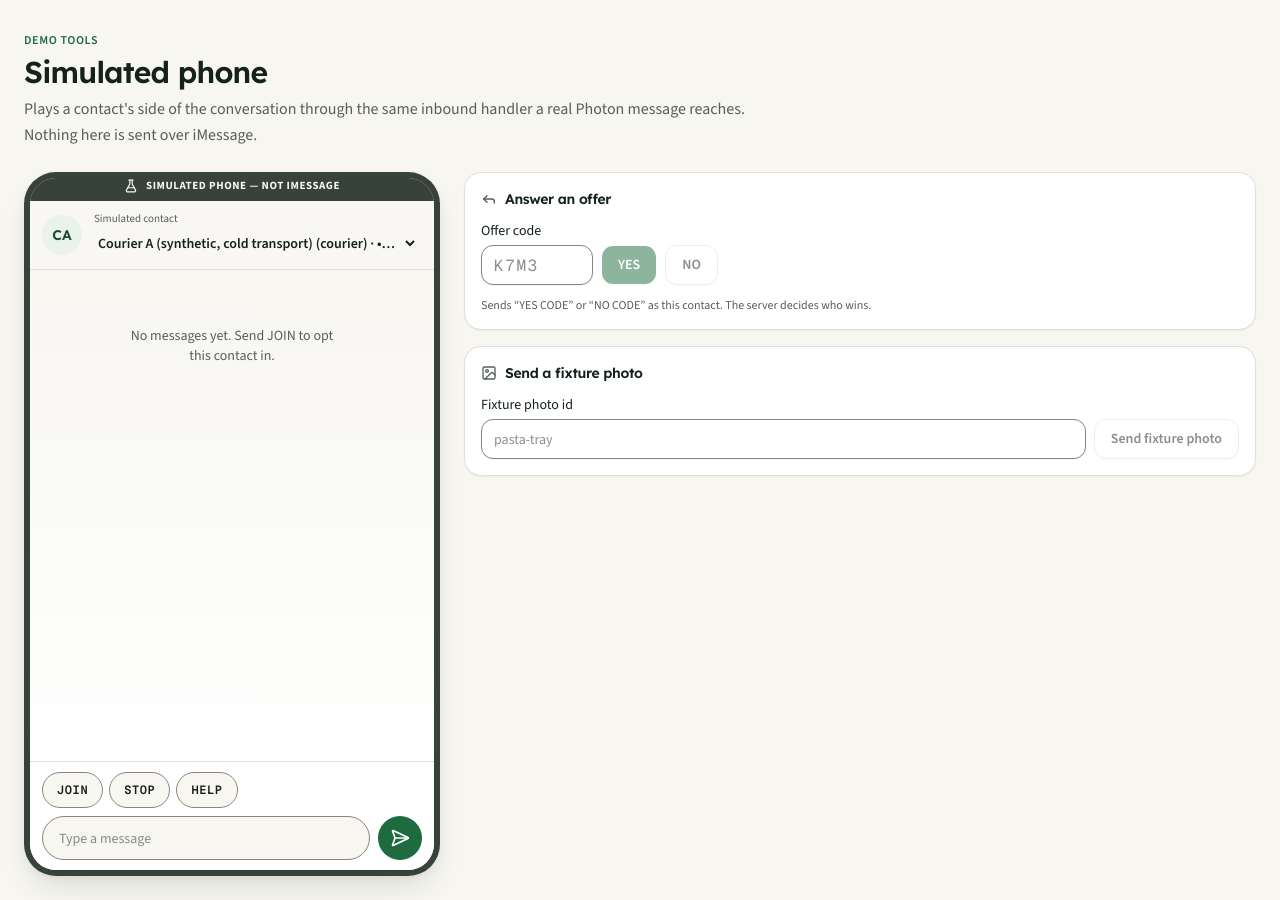
Test: SimulatedPhone review fixes › shows the disabled notice when the inbound POST answers 403
The image size is (1280, 900).
Click the button "JOIN": [73, 790] box [42,772,103,808]
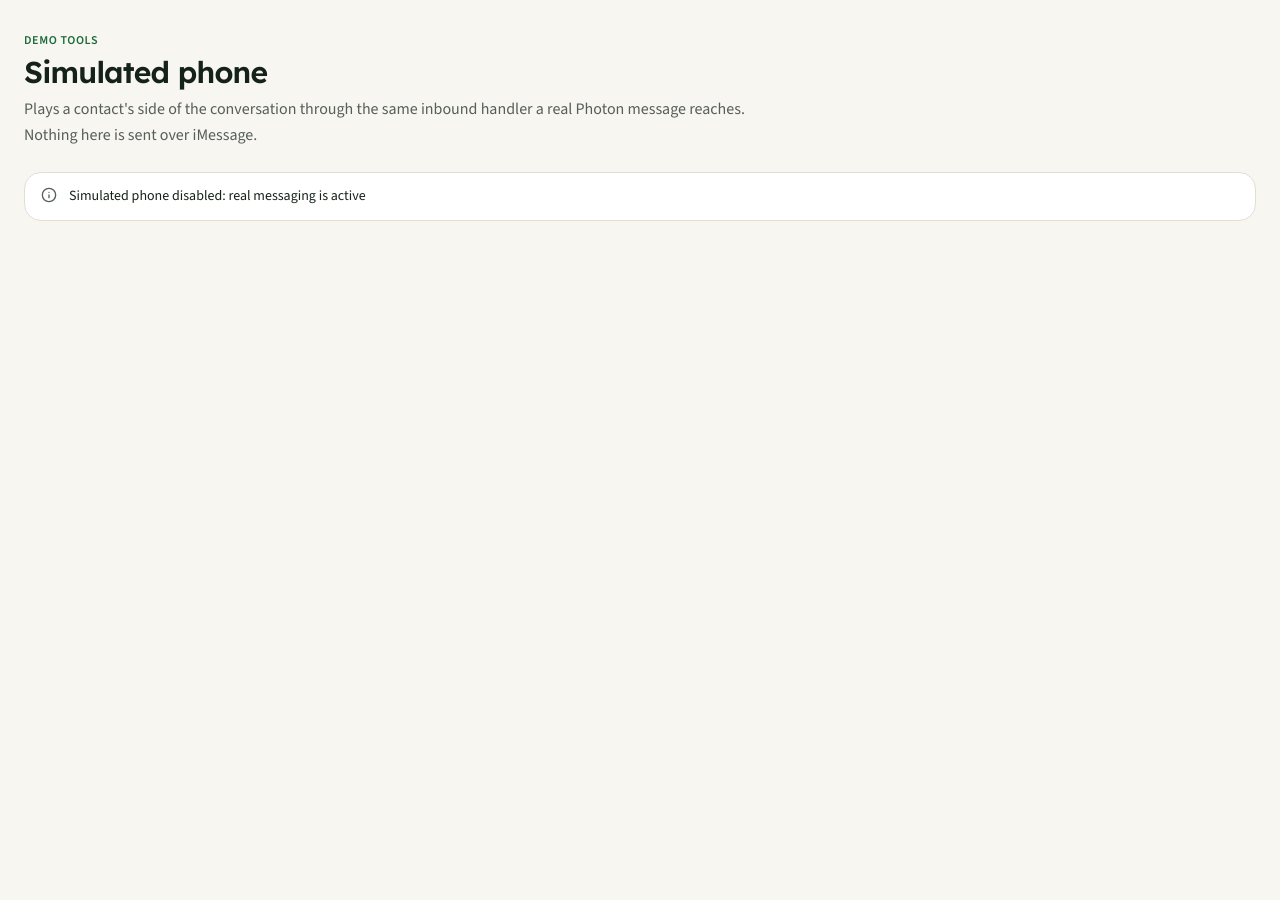
Now the text "Simulated phone disabled: real messaging is active" is shown, box [69,186,366,205]
